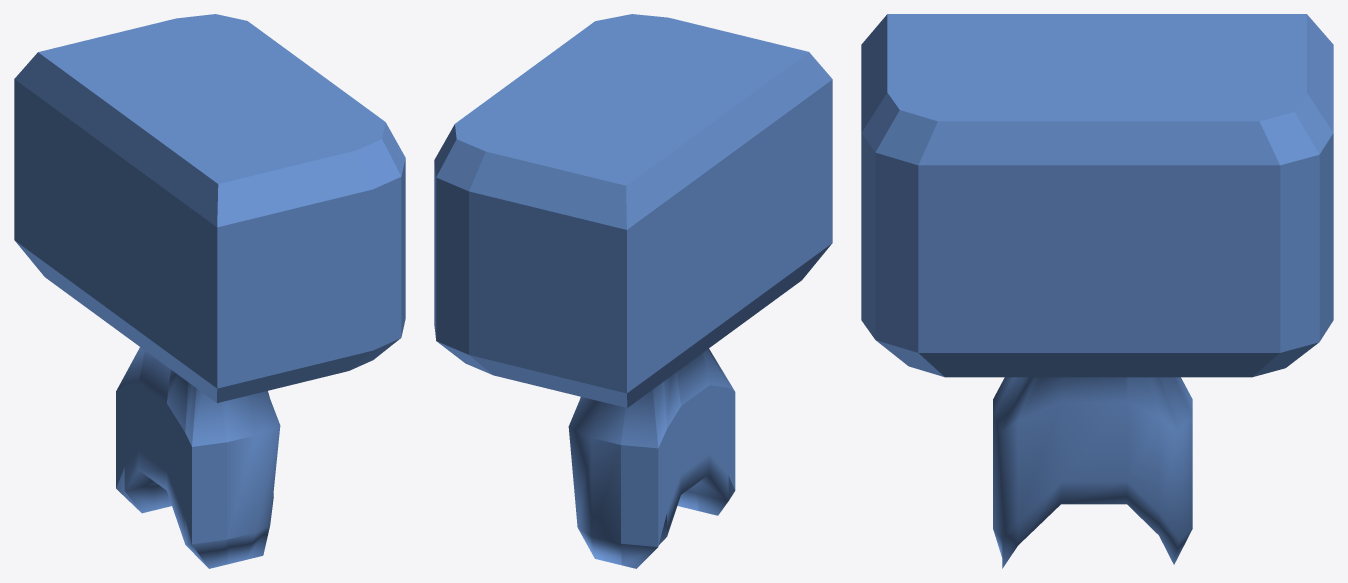
The model's file is CHARA 4.fbx.
The picture shows the model from 3 angles, left to right: view 1: azimuth 30°, elevation 25°; view 2: azimuth 150°, elevation 25°; view 3: azimuth 270°, elevation 25°; orthographic projection. The views are drawn at different scales.
Visible parts, largest first — view 1: Cube; view 2: Cube; view 3: Cube.
Part boxes in pixels (x1,y1,x2,y2): Cube: [14, 14, 405, 568]; Cube: [434, 14, 832, 568]; Cube: [861, 14, 1333, 568].
Size of the model in its own units: 25.85 by 49.99 by 42.66.
